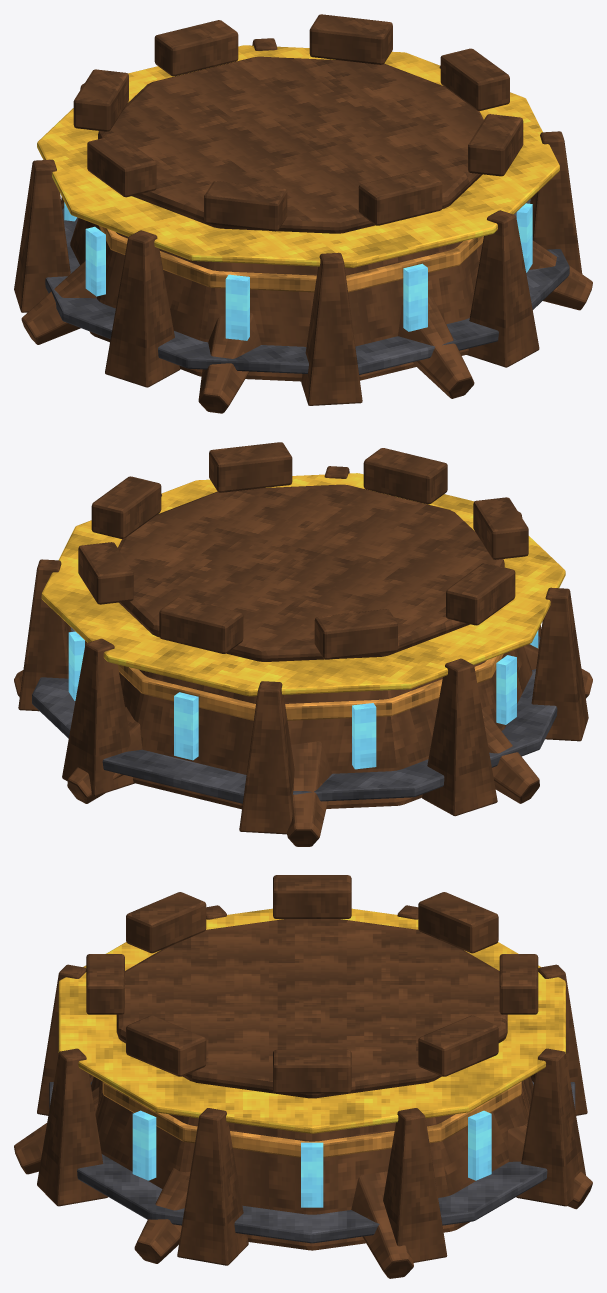
Rendered from base_stump.gltf.
The picture shows the model from 3 angles, top to bottom: view 1: azimuth 30°, elevation 25°; view 2: azimuth 150°, elevation 25°; view 3: azimuth 270°, elevation 25°; orthographic projection.
Parts seen in each view (by area): view 1: base_stump_wood, Tier3_wood, Tier4_gold, Tier2_iron, Tier4_rune, base_stump_brass; view 2: base_stump_wood, Tier3_wood, Tier4_gold, Tier2_iron, Tier4_rune, base_stump_brass; view 3: base_stump_wood, Tier3_wood, Tier4_gold, Tier2_iron, base_stump_brass, Tier4_rune.
Part boxes in pixels (box(x1,y1,x2,y2)): base_stump_wood: box(21, 56, 592, 413); Tier3_wood: box(14, 14, 582, 405); Tier4_gold: box(37, 45, 559, 267); Tier2_iron: box(45, 199, 569, 374); Tier4_rune: box(64, 202, 532, 340); base_stump_brass: box(99, 226, 483, 292); base_stump_wood: box(14, 484, 592, 846); Tier3_wood: box(18, 442, 588, 834); Tier4_gold: box(41, 473, 565, 696); Tier2_iron: box(32, 627, 557, 803); Tier4_rune: box(68, 630, 538, 769); base_stump_brass: box(118, 654, 503, 720); base_stump_wood: box(14, 919, 592, 1278); Tier3_wood: box(37, 875, 587, 1265); Tier4_gold: box(58, 908, 565, 1133); Tier2_iron: box(49, 1081, 575, 1243); base_stump_brass: box(102, 1082, 521, 1157); Tier4_rune: box(132, 1110, 491, 1207).
Bounding box in the file's own units: 1.05 × 0.3843 × 1.05.
5 materials, 5 textured.
